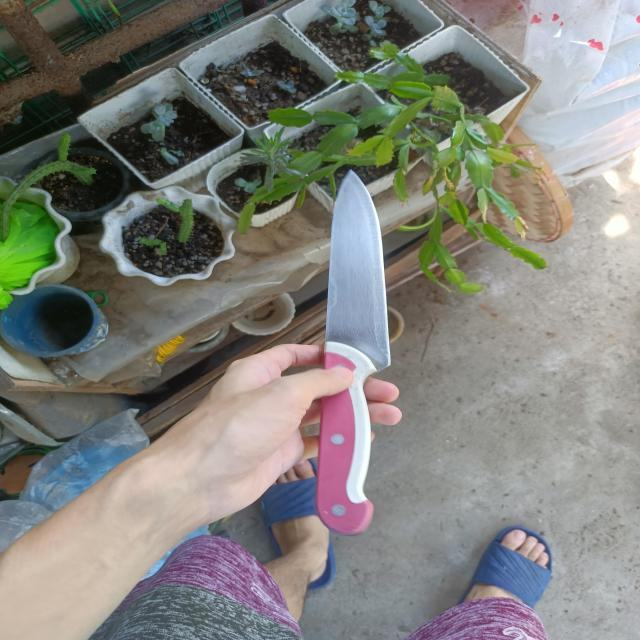knife: (294, 168, 390, 534)
